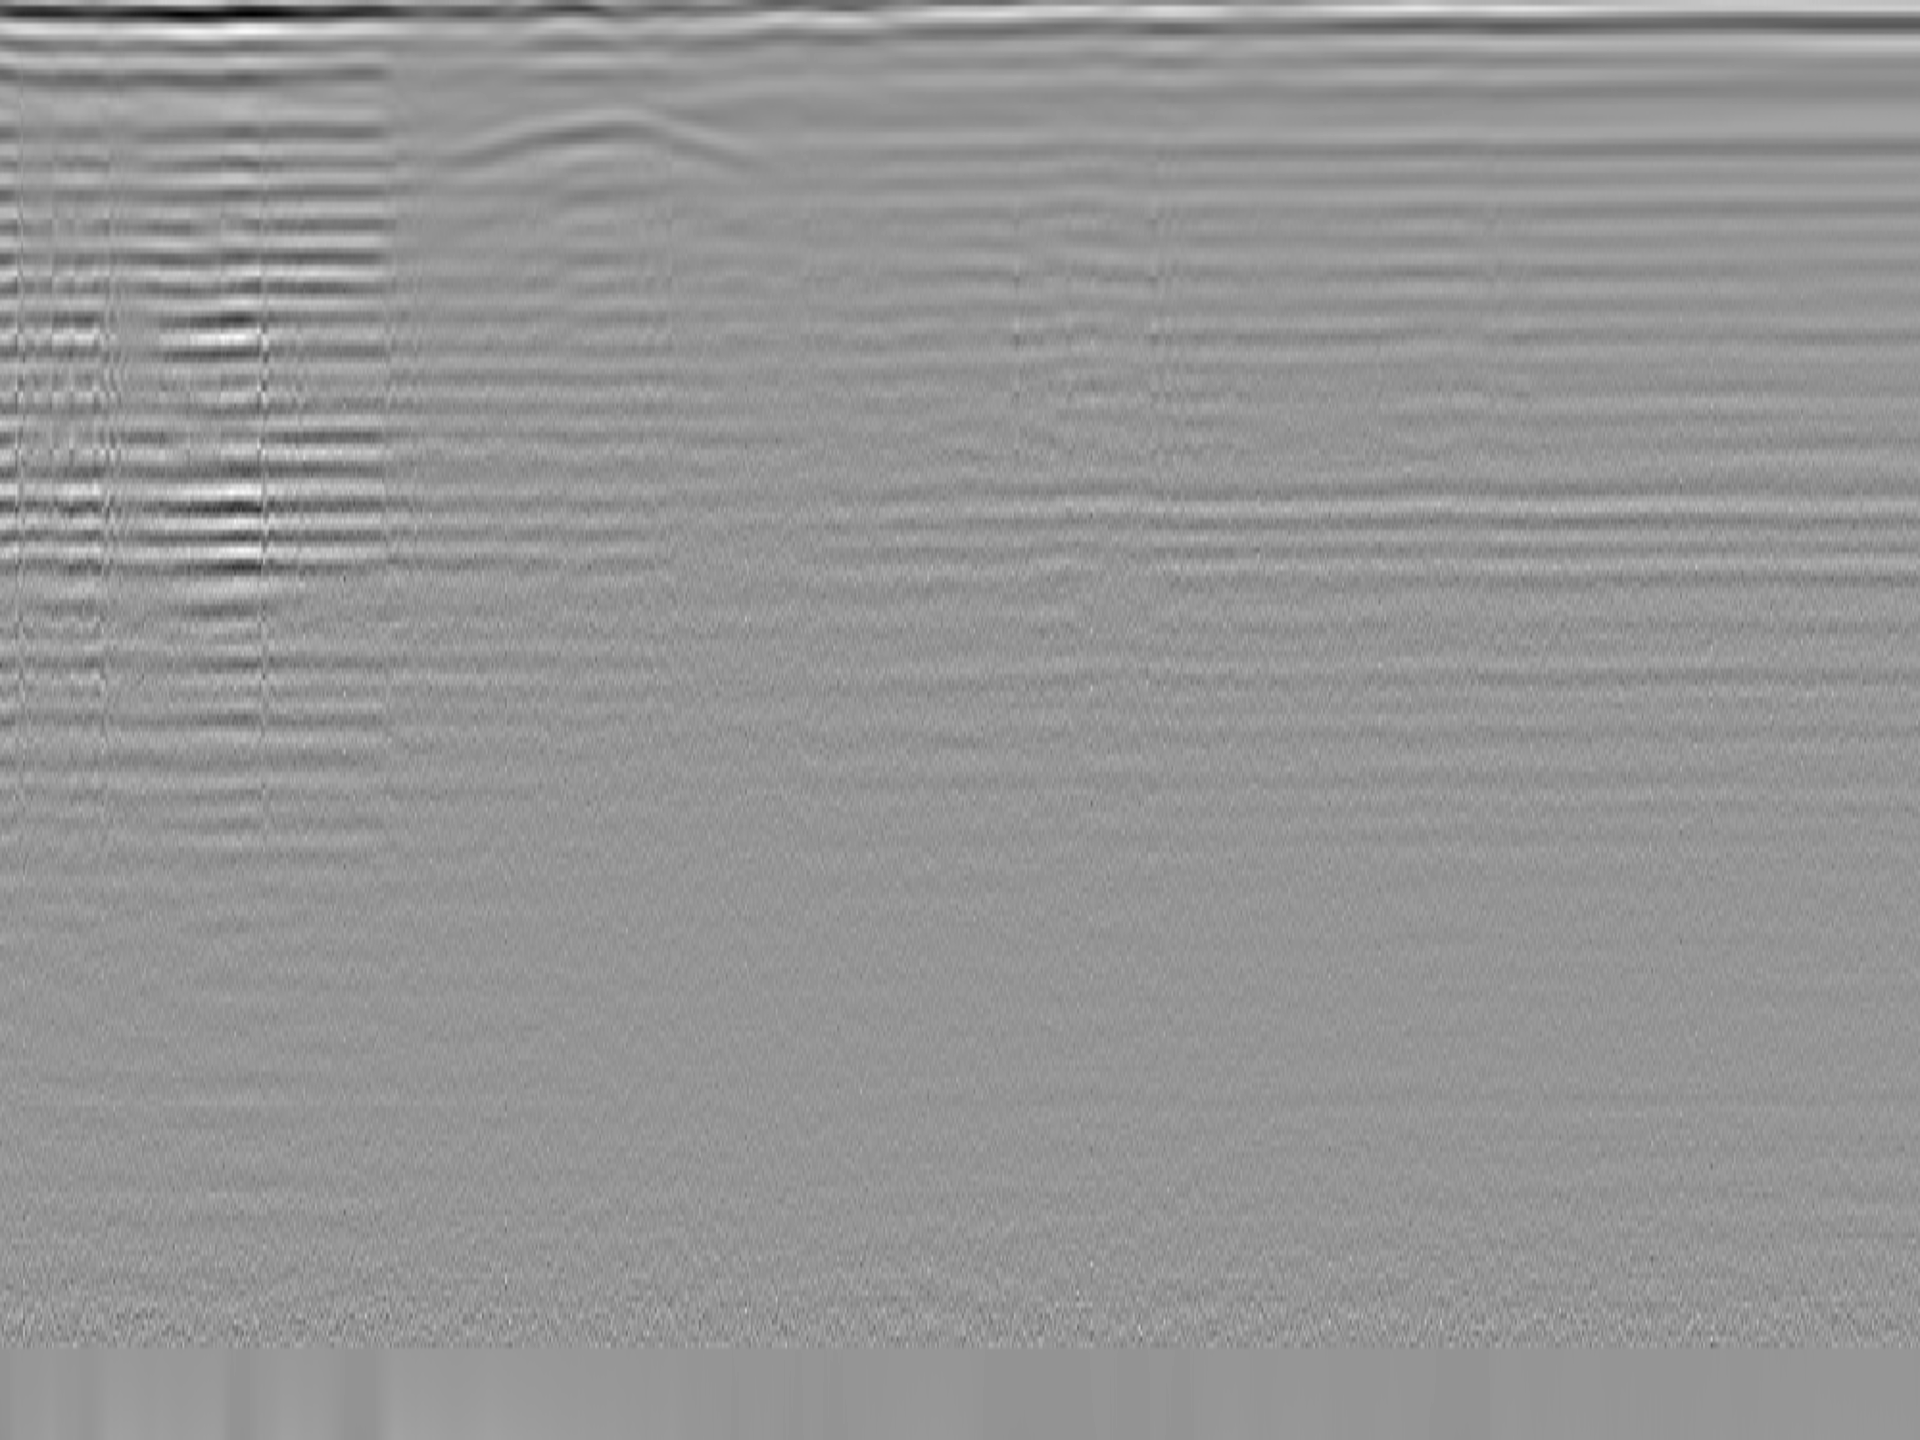Tunnel: (435, 109, 766, 178)
